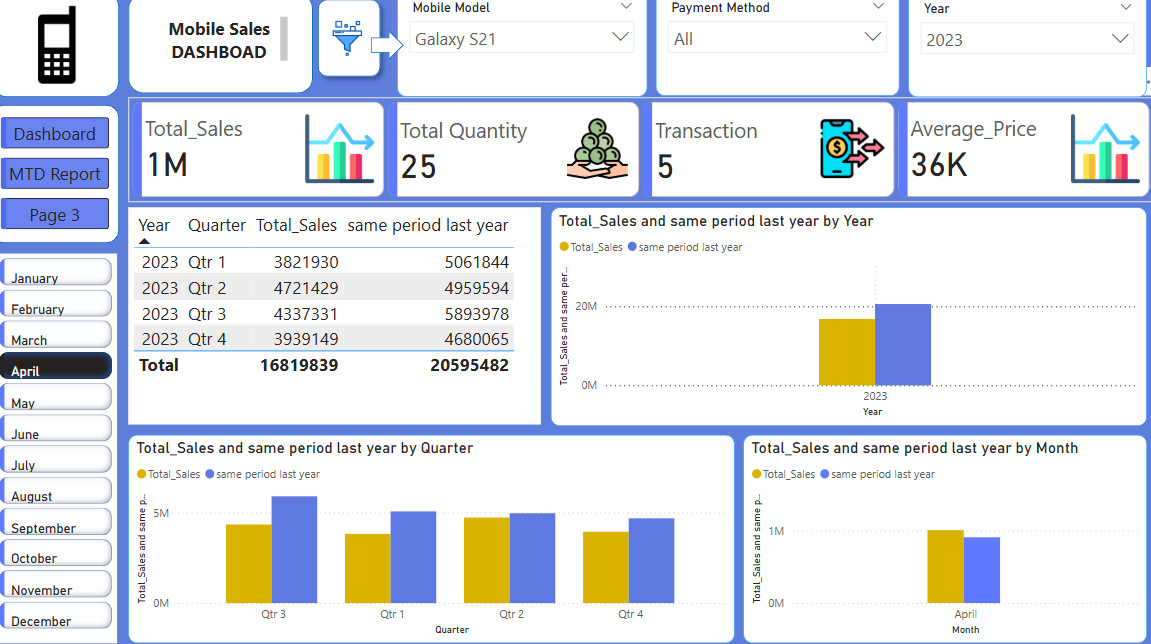

This screenshot's page, from the dashboard's own definition file:
{"tool":"powerbi","page":{"name":"Same Period Last Year","canvas":[1280,720],"ordinal":3},"visuals":[{"type":"shape","box":[9.5,0,140.3,115.8],"z":0},{"type":"image","box":[21.8,1.4,118.5,114.4],"z":1000},{"type":"shape","box":[9.5,123.9,140.3,151.2],"z":2000},{"type":"cardVisual","fields":{"Data":["Mobile_Sales.Total_Sales","Mobile_Sales.Total Quantity","Mobile_Sales.Transaction","Mobile_Sales.Average_Price"]},"box":[159.4,115.8,1120.9,114.4],"z":3000},{"type":"slicer","fields":{"Values":["Mobile_Sales.Mobile Model"]},"box":[452.5,0,272.5,115],"z":4000},{"type":"slicer","fields":{"Values":["Mobile_Sales.Payment Method"]},"box":[734.1,0,265.6,114.4],"z":5000},{"type":"slicer","fields":{"Values":["Custom_Calender.Date.Variation.Date Hierarchy.Year"]},"box":[1009.2,1.4,260.1,114.4],"z":6000},{"type":"shape","box":[356.2,0,86.2,102.5],"z":7000},{"type":"image","box":[238.8,27.5,318.8,48.8],"z":8000},{"type":"shape","box":[423.8,42.5,36.2,33.8],"z":9000},{"type":"shape","box":[159.4,2.7,201.6,109],"z":10000},{"type":"textbox","box":[186.2,22.5,151.2,58.8],"z":11000},{"type":"advancedSlicerVisual","fields":{"Values":["Custom_Calender.Date.Variation.Date Hierarchy.Month"]},"box":[13.6,286,133.5,424.9],"z":12000},{"type":"tableEx","fields":{"Values":["Custom_Calender.Date.Variation.Date Hierarchy.Year","Custom_Calender.Date.Variation.Date Hierarchy.Quarter","Mobile_Sales.Total_Sales","Mobile_Sales.same period last year"]},"box":[159.4,235.6,449.5,237],"z":13000},{"type":"lineClusteredColumnComboChart","fields":{"Category":["Custom_Calender.Date.Variation.Date Hierarchy.Year","Custom_Calender.Date.Variation.Date Hierarchy.Quarter"],"Y":["Mobile_Sales.Total_Sales","Mobile_Sales.same period last year"]},"box":[619.7,235.6,649.7,238.3],"z":14000},{"type":"clusteredColumnChart","fields":{"Y":["Mobile_Sales.Total_Sales","Mobile_Sales.same period last year"],"Category":["Custom_Calender.Date.Variation.Date Hierarchy.Month"]},"box":[829.5,483.5,439.9,227.5],"z":15000},{"type":"clusteredColumnChart","fields":{"Category":["Custom_Calender.Date.Variation.Date Hierarchy.Year","Custom_Calender.Date.Variation.Date Hierarchy.Quarter"],"Y":["Mobile_Sales.Total_Sales","Mobile_Sales.same period last year"]},"box":[159.4,483.5,660.6,227.5],"z":16000},{"type":"pageNavigator","box":[20.4,137.6,118.5,123.9],"z":17000}]}

Visuals, with their boxes in screenshot pixels (x1, y1, x2, y2), scaled from the page's 1280x720 canvas onto the 1151x644 screenshot:
shape: x1=9, y1=0, x2=135, y2=104
image: x1=20, y1=1, x2=126, y2=104
shape: x1=9, y1=111, x2=135, y2=246
cardVisual - Mobile_Sales.Total_Sales x Mobile_Sales.Total Quantity: x1=143, y1=104, x2=1150, y2=206
slicer - Mobile_Sales.Mobile Model: x1=407, y1=0, x2=652, y2=103
slicer - Mobile_Sales.Payment Method: x1=660, y1=0, x2=899, y2=102
slicer - Custom_Calender.Date.Variation.Date Hierarchy.Year: x1=907, y1=1, x2=1141, y2=104
shape: x1=320, y1=0, x2=398, y2=92
image: x1=215, y1=25, x2=501, y2=68
shape: x1=381, y1=38, x2=414, y2=68
shape: x1=143, y1=2, x2=325, y2=100
textbox: x1=167, y1=20, x2=303, y2=73
advancedSlicerVisual - Custom_Calender.Date.Variation.Date Hierarchy.Month: x1=12, y1=256, x2=132, y2=636
tableEx - Custom_Calender.Date.Variation.Date Hierarchy.Year x Custom_Calender.Date.Variation.Date Hierarchy.Quarter: x1=143, y1=211, x2=548, y2=423
lineClusteredColumnComboChart - Custom_Calender.Date.Variation.Date Hierarchy.Year x Custom_Calender.Date.Variation.Date Hierarchy.Quarter: x1=557, y1=211, x2=1141, y2=424
clusteredColumnChart - Mobile_Sales.Total_Sales x Mobile_Sales.same period last year: x1=746, y1=432, x2=1141, y2=636
clusteredColumnChart - Custom_Calender.Date.Variation.Date Hierarchy.Year x Custom_Calender.Date.Variation.Date Hierarchy.Quarter: x1=143, y1=432, x2=737, y2=636
pageNavigator: x1=18, y1=123, x2=125, y2=234
